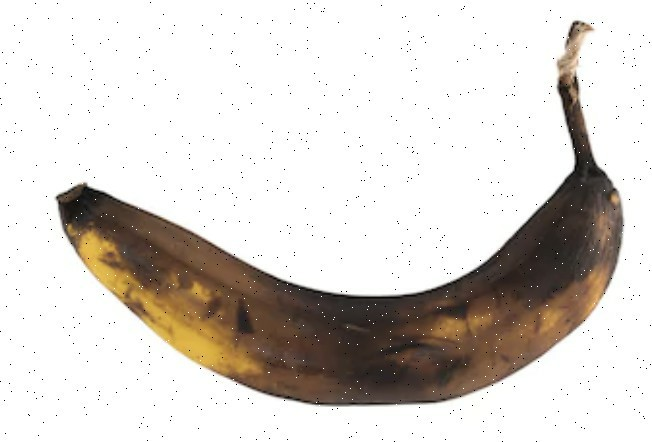rotten_banana: (61, 81, 625, 405)
